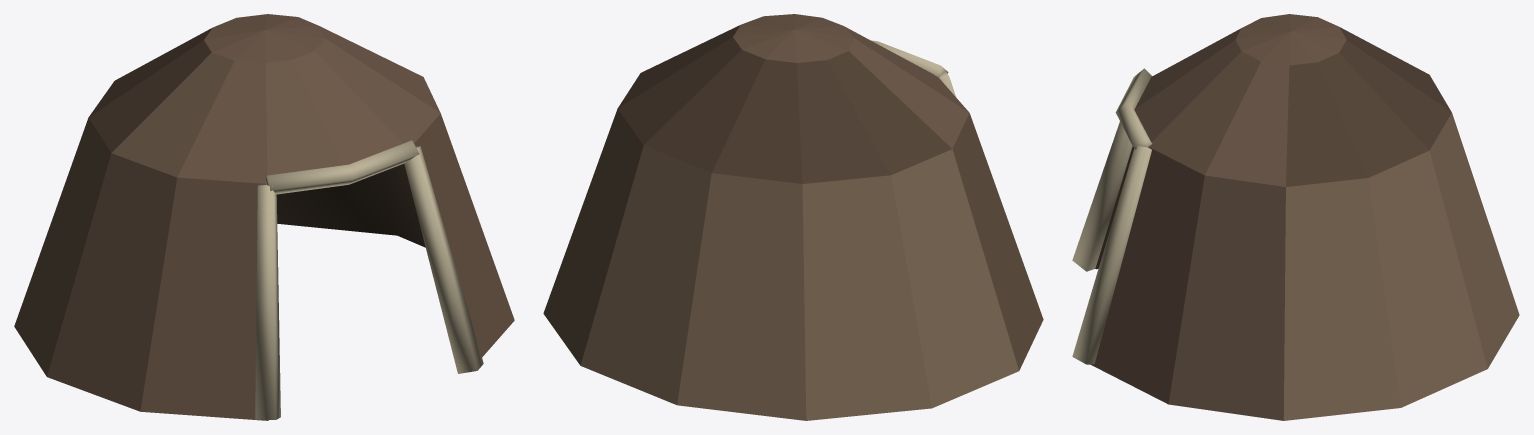
File: bone_hide_shelter_lod2.glb
The picture shows the model from 3 angles, left to right: view 1: azimuth 30°, elevation 25°; view 2: azimuth 150°, elevation 25°; view 3: azimuth 270°, elevation 25°; orthographic projection. The views are drawn at different scales.
Parts seen in each view (by area): view 1: bone_hide_shelter_lod2; view 2: bone_hide_shelter_lod2; view 3: bone_hide_shelter_lod2.
Boxes of the visible parts, x1,y1,x2,y2 form: bone_hide_shelter_lod2: (14,14,514,420); bone_hide_shelter_lod2: (543,14,1043,420); bone_hide_shelter_lod2: (1072,14,1519,420).
Bounding box in the file's own units: 2.96 × 1.85 × 2.64.
